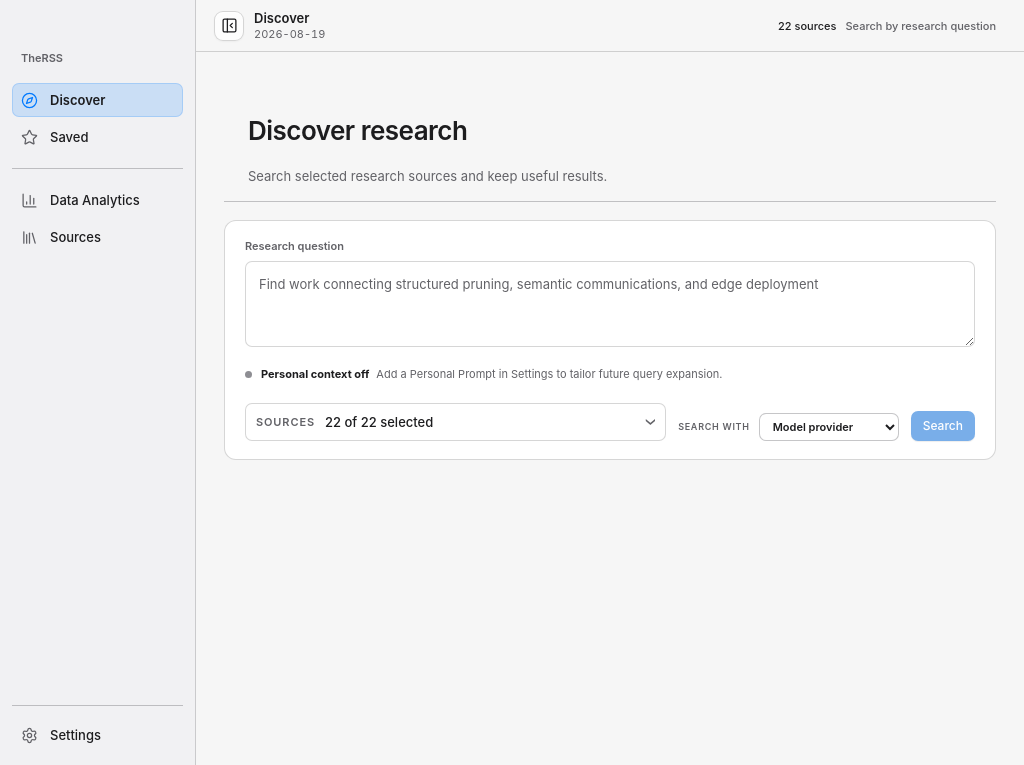
Test: App › uses one selectable Discover list-detail workspace for fast scanning
In the text box labelled "Research question": (610, 304) [245,260,975,347], type "edge search"
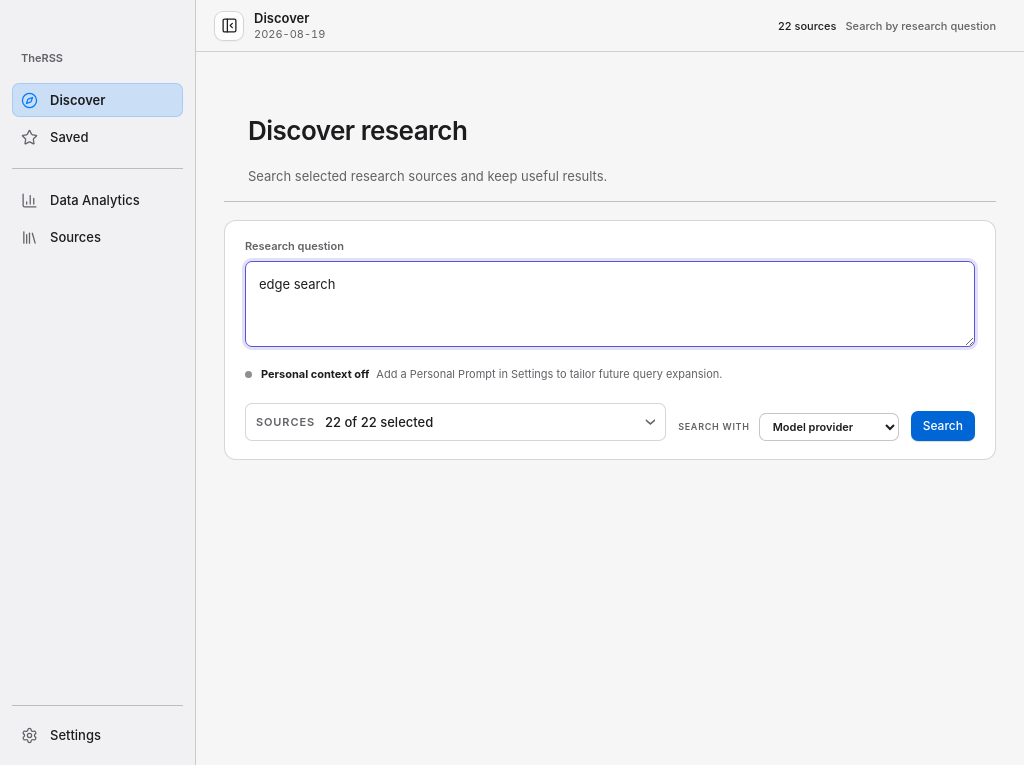
Click the button "Search": (943, 426) [911,411,975,441]
(page scrolled)
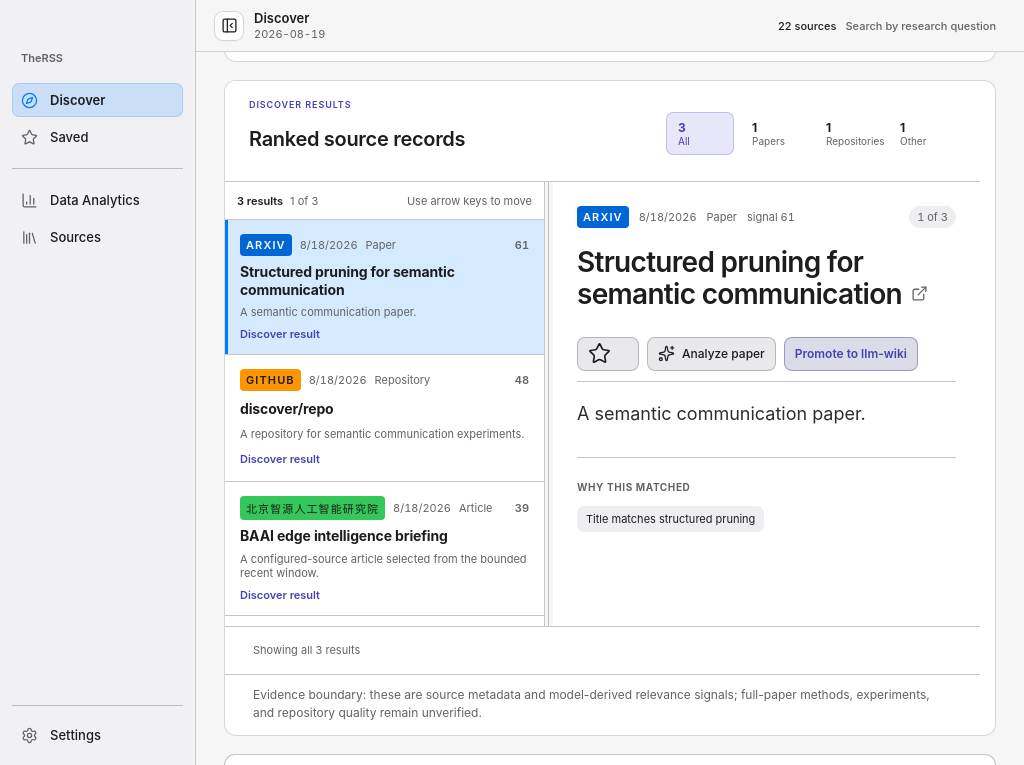
Expected: the number of buttons named "Select result:" is 3
Expected: the heading "Structured pruning for semantic communication" is shown, [577,246,956,311]
Expected: the element named "Resize Discover result list" is shown, [545,182,553,626]
Click the button with aria-label "Select result: discover/repo": (270, 380) [225,355,544,481]
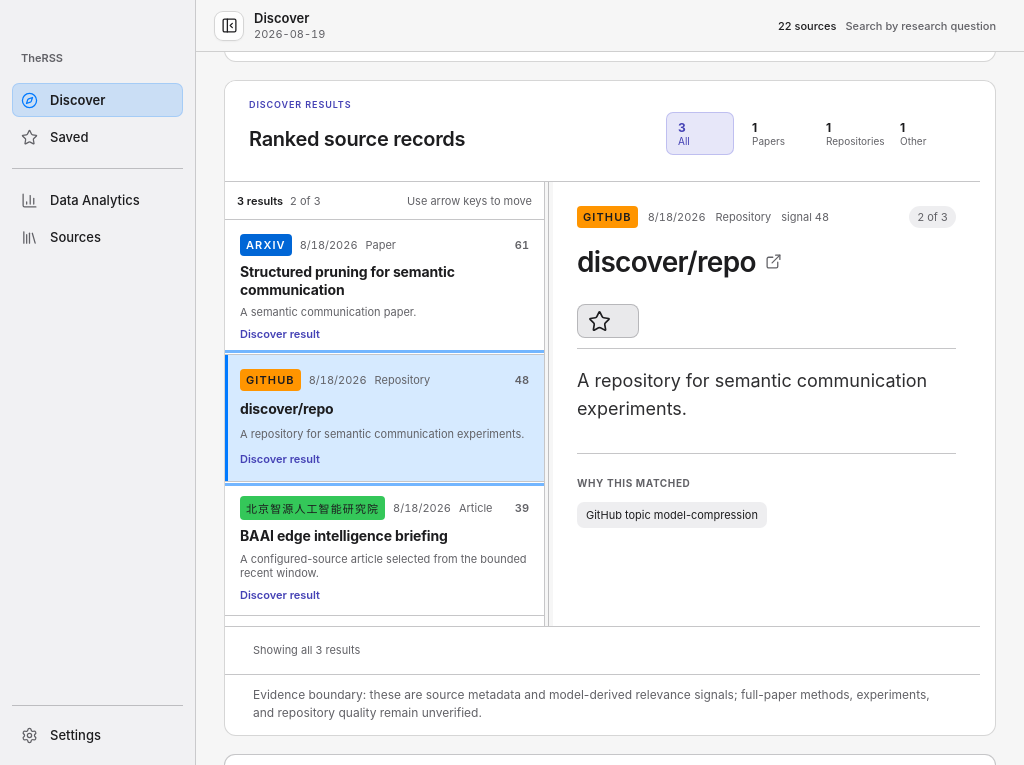
Expected: the heading "discover/repo" is shown, [577,245,782,279]
Press Arrowdown
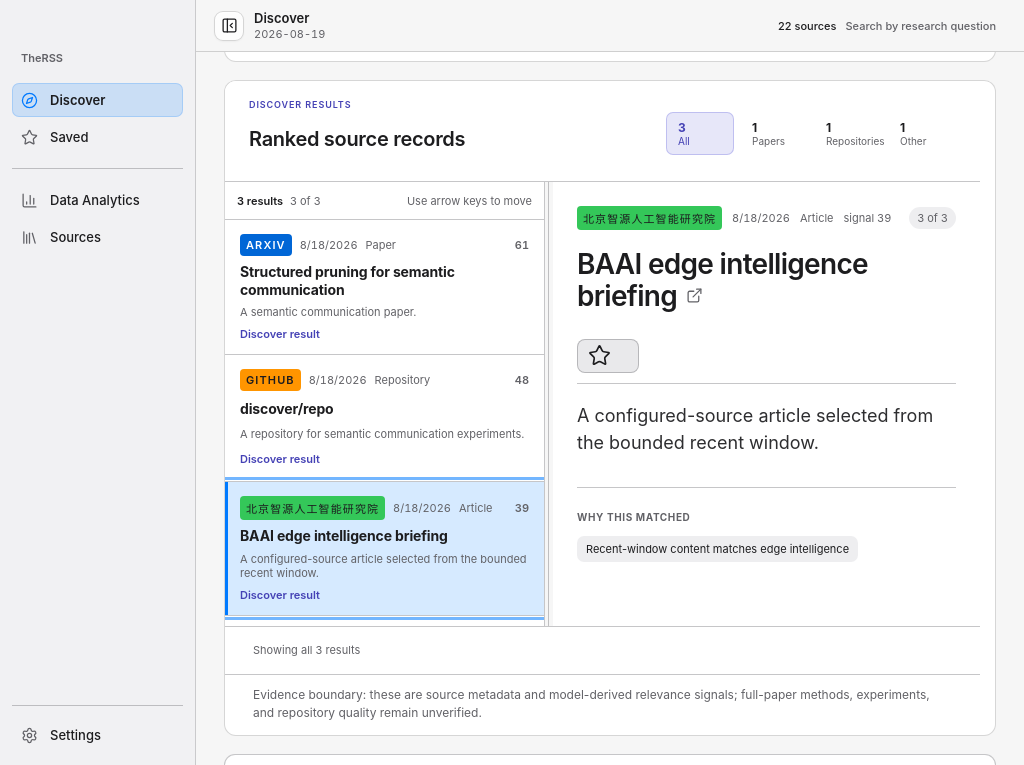
Expected: the heading "BAAI edge intelligence briefing" is shown, [577,247,868,313]
